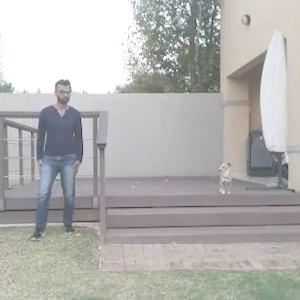follow: (33, 72, 83, 253)
